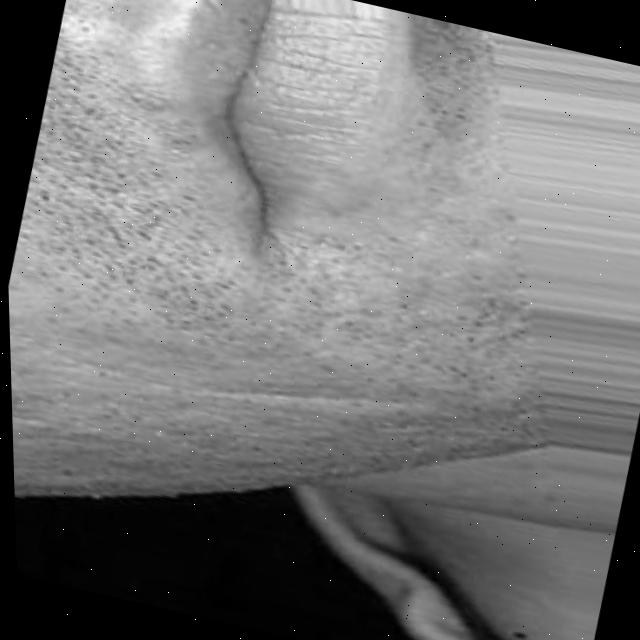Rosacea: (126, 85, 185, 146)
